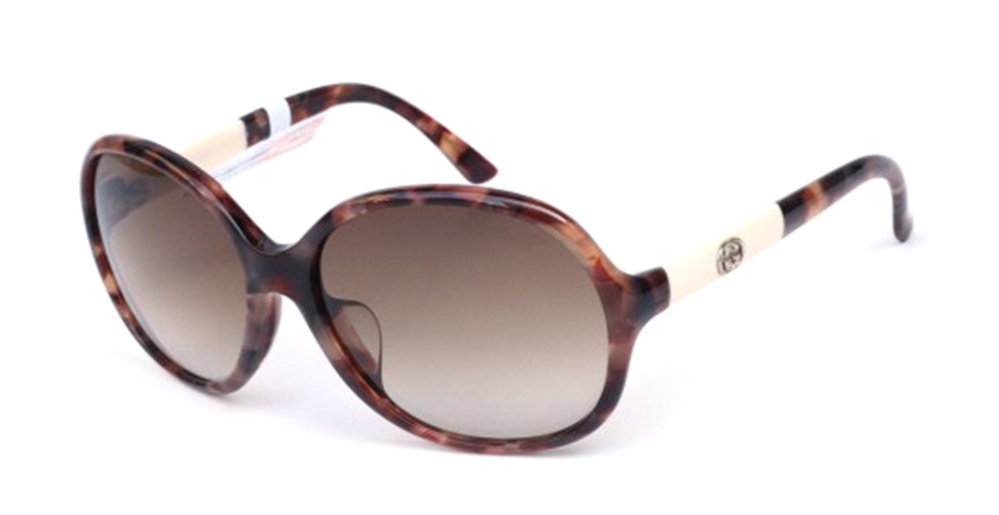Gucci: (713, 235, 756, 282)
